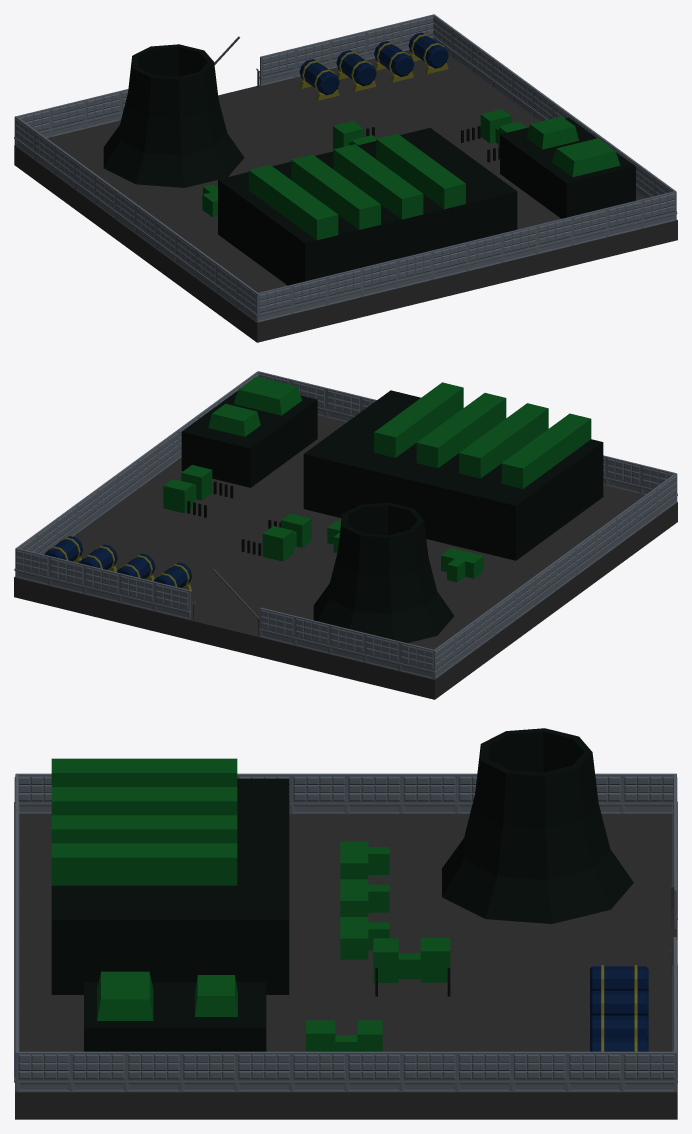
3 renders of one model, top to bottom at view 1: azimuth 30°, elevation 25°; view 2: azimuth 150°, elevation 25°; view 3: azimuth 270°, elevation 25°, orthographic. The views are drawn at different scales.
Visible parts, largest first — view 1: ES; view 2: ES; view 3: ES.
Part boxes in pixels (x1,y1,x2,y2): ES: (14, 14, 677, 342); ES: (14, 371, 677, 699); ES: (14, 728, 677, 1119).
Size of the model in its own units: 20022 by 5252 by 20045.
